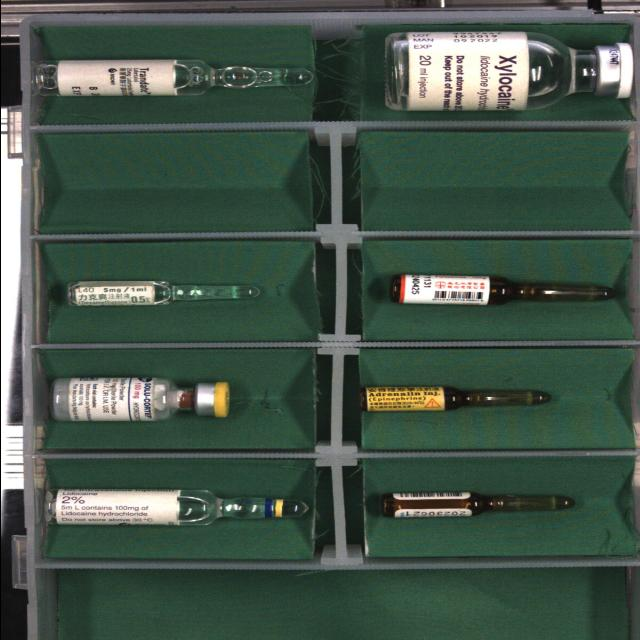Vials: (386, 32, 633, 110), (51, 377, 229, 421)
